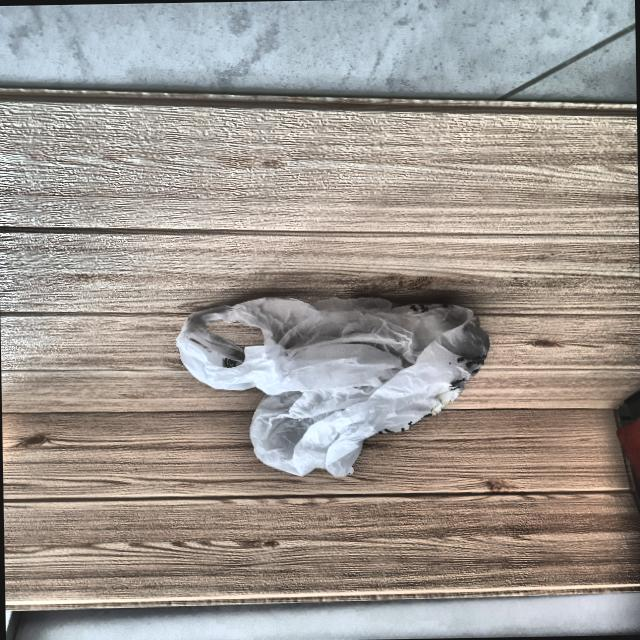plastic bag: (156, 282, 513, 488)
